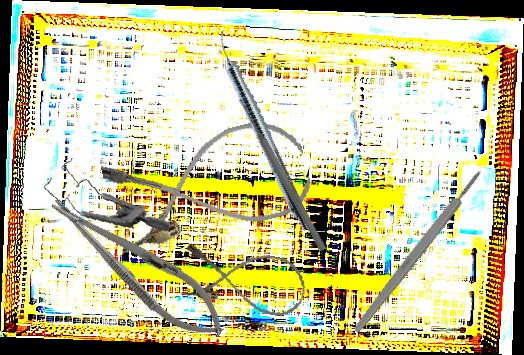Cannula: (99, 112, 317, 256), (177, 239, 311, 321)
Handpiece: (208, 28, 318, 234)
Needle Holder: (37, 180, 239, 354)
Pusher: (235, 96, 329, 253)
Scalpel Handle: (350, 167, 486, 337)
Speculum: (39, 145, 172, 249)
